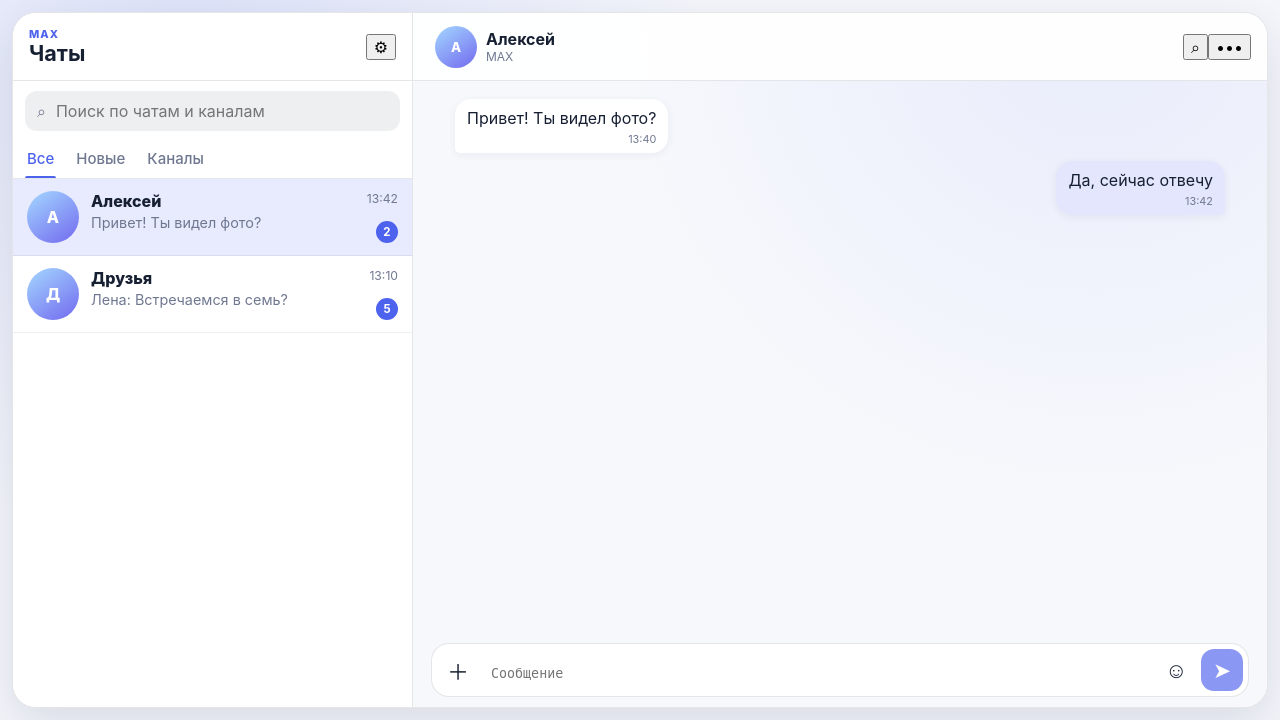
Test case: narrow messenger gestures › lets a nested message own a left swipe to reply
The image size is (1280, 720).
Later steps or results of the test are not shown.
Expected: the text "Привет! Ты видел фото?" is shown, top-left (467, 108), bottom-right (656, 128)
Press the mouse on the text "Привет! Ты видел фото?" at (562, 126), box top-left (455, 99), bottom-right (668, 153)
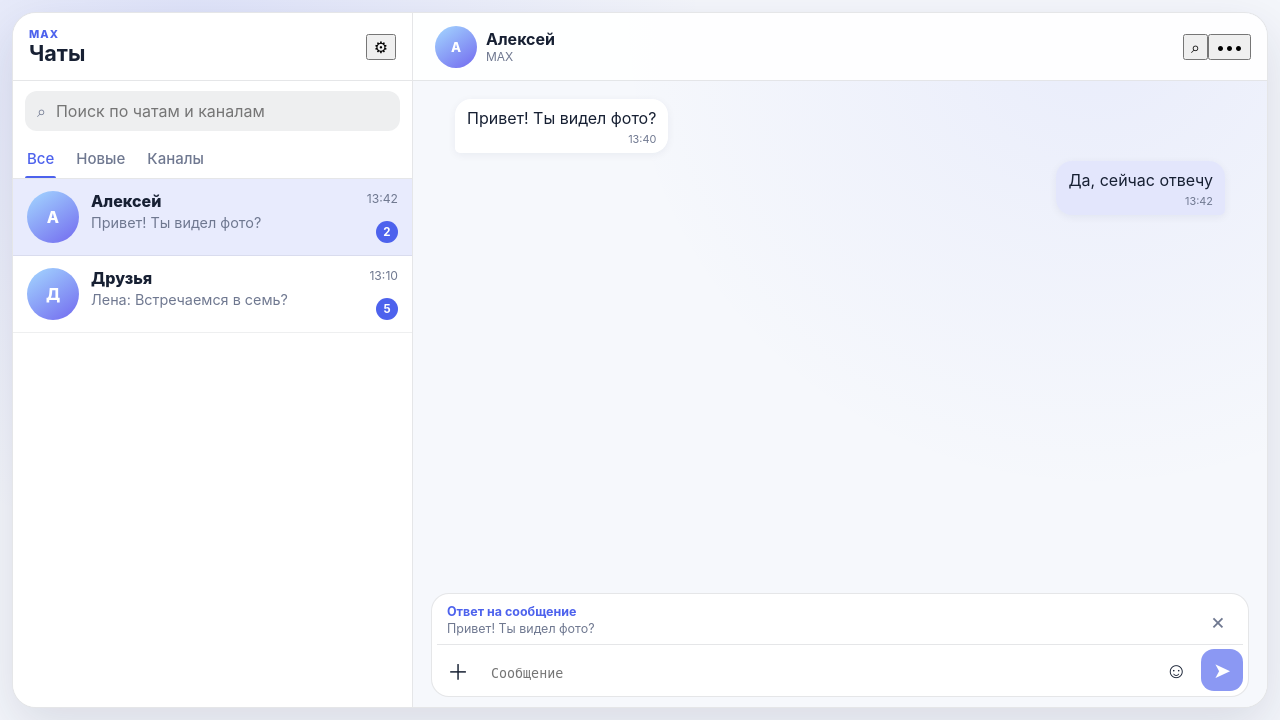
Expected: the text "Ответ на сообщение" is shown once, top-left (447, 604), bottom-right (576, 619)
